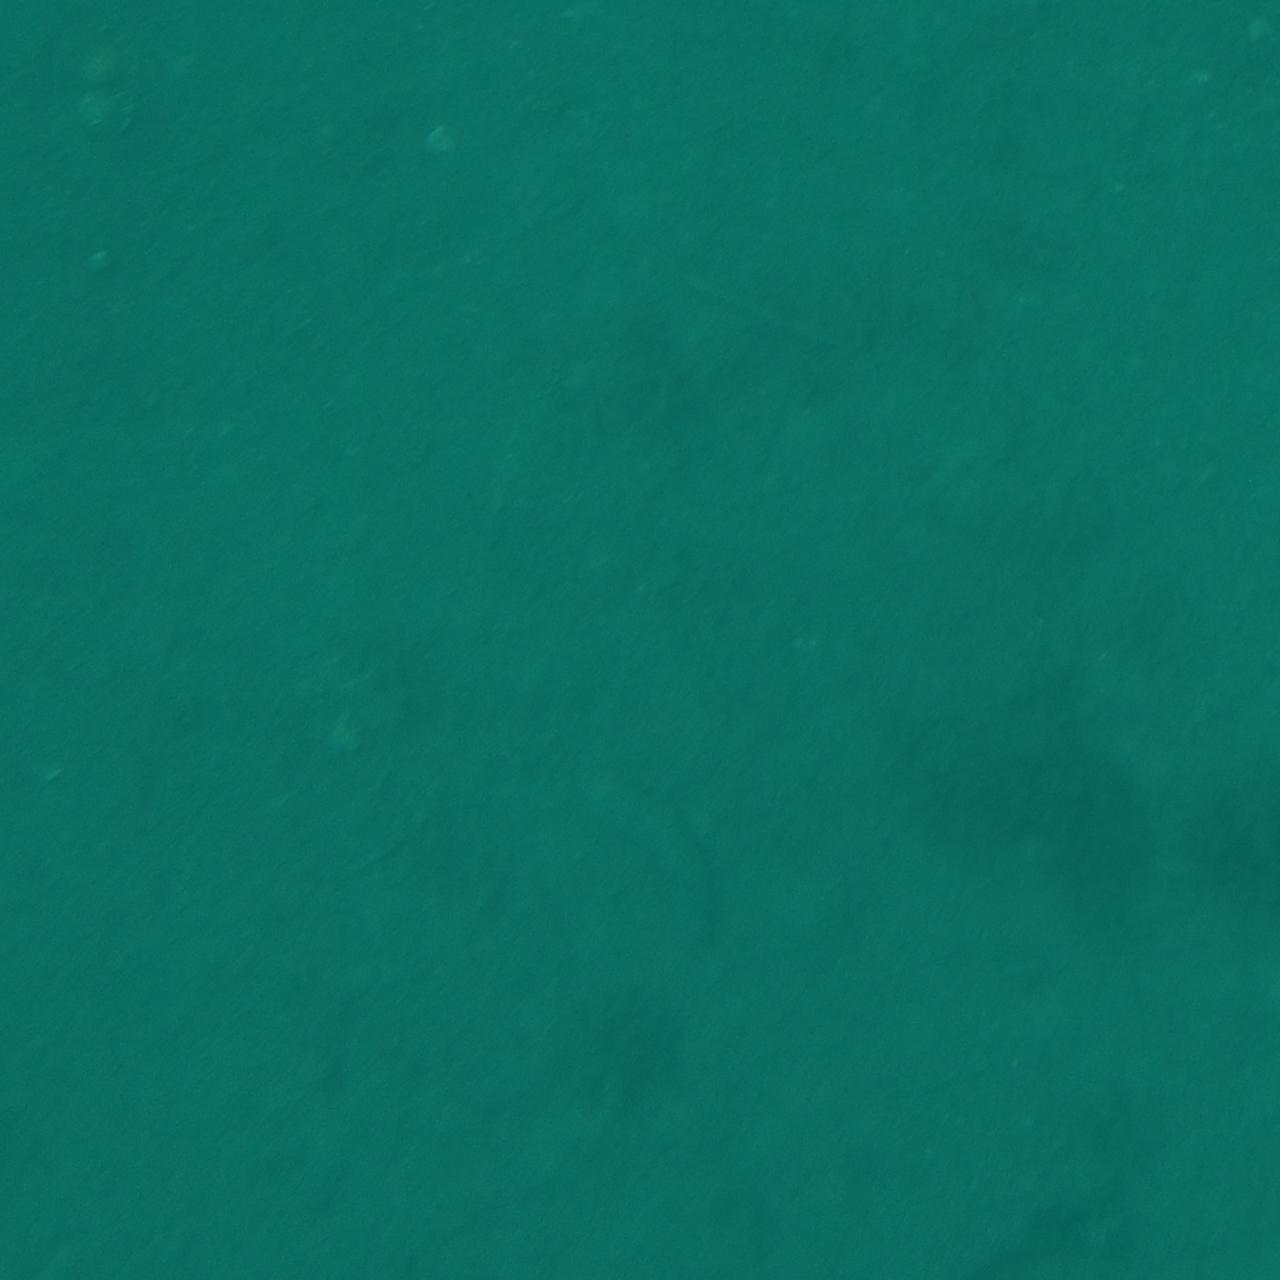Holothuria tubulosa: (550, 728, 730, 982)
